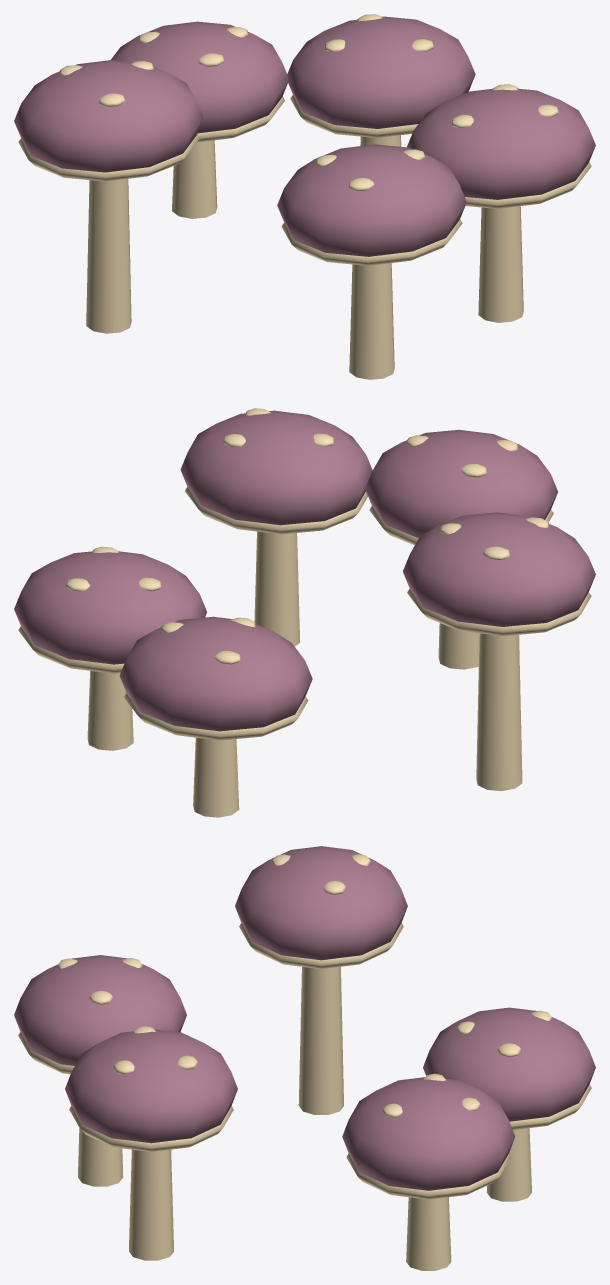
Rendered from mushrooms.glb.
3 views of the same model, one above another, from view 1: azimuth 30°, elevation 25°; view 2: azimuth 150°, elevation 25°; view 3: azimuth 270°, elevation 25° (orthographic). The views are drawn at different scales.
Parts seen in each view (by area): view 1: mushrooms_mushroom, mushrooms_cream; view 2: mushrooms_mushroom, mushrooms_cream; view 3: mushrooms_mushroom, mushrooms_cream.
Boxes of the visible parts, box(x1,y1,x2,y2) form: mushrooms_mushroom: box(14, 16, 595, 256); mushrooms_cream: box(18, 14, 591, 379); mushrooms_mushroom: box(14, 410, 595, 731); mushrooms_cream: box(18, 408, 591, 817); mushrooms_mushroom: box(14, 846, 595, 1190); mushrooms_cream: box(18, 854, 591, 1270).
Bounding box in the file's own units: 1.35 × 0.655 × 1.41.
